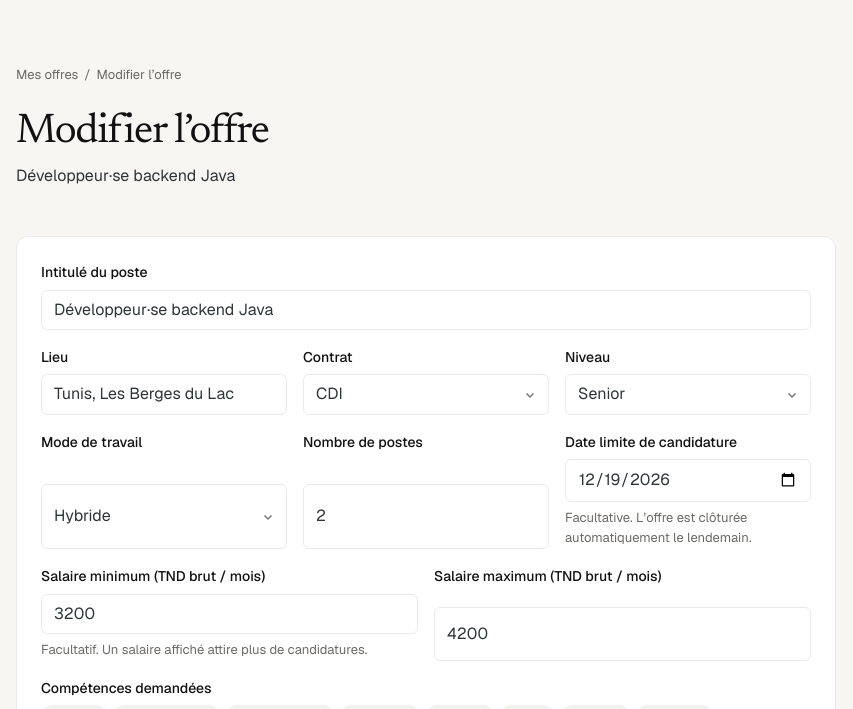
it: edit page on the simulated gateway › saves a change into the in-browser database
Type "Backend Java confirmé" into the field labelled "Intitulé du poste". click: (426, 310)
box: x1=41 y1=290 x2=811 y2=330
(page scrolled)
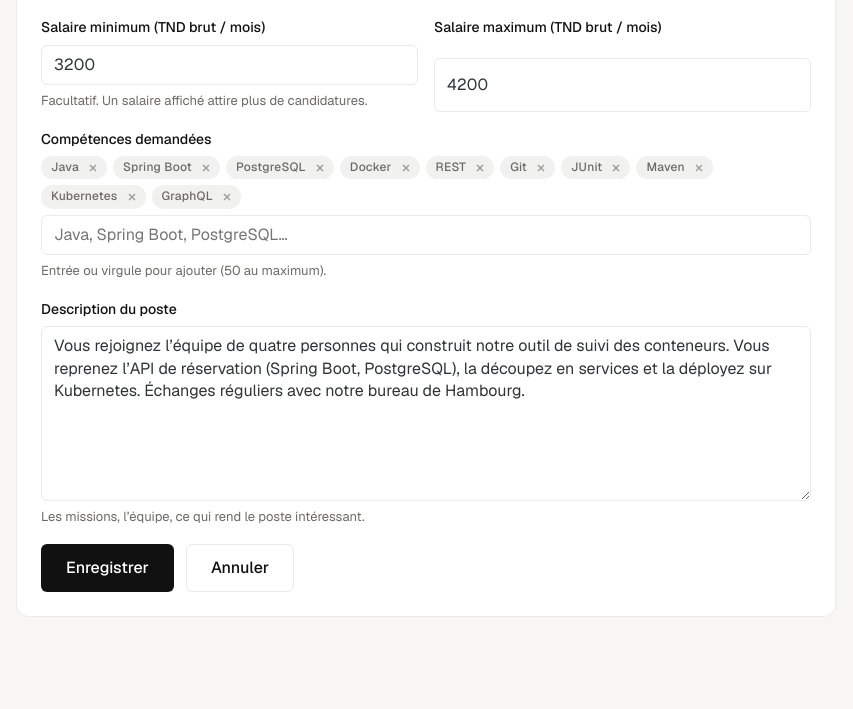
Click the button "Enregistrer". click: (107, 568)
box: x1=41 y1=544 x2=174 y2=592
(page scrolled)
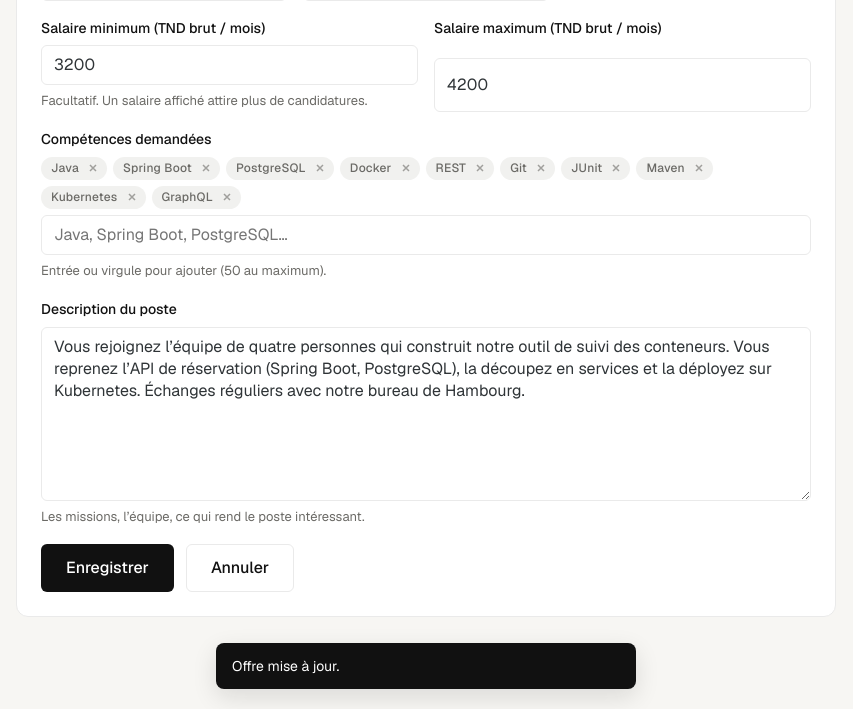
Now the text "Offre mise à jour." is shown, box x1=216 y1=643 x2=636 y2=689
